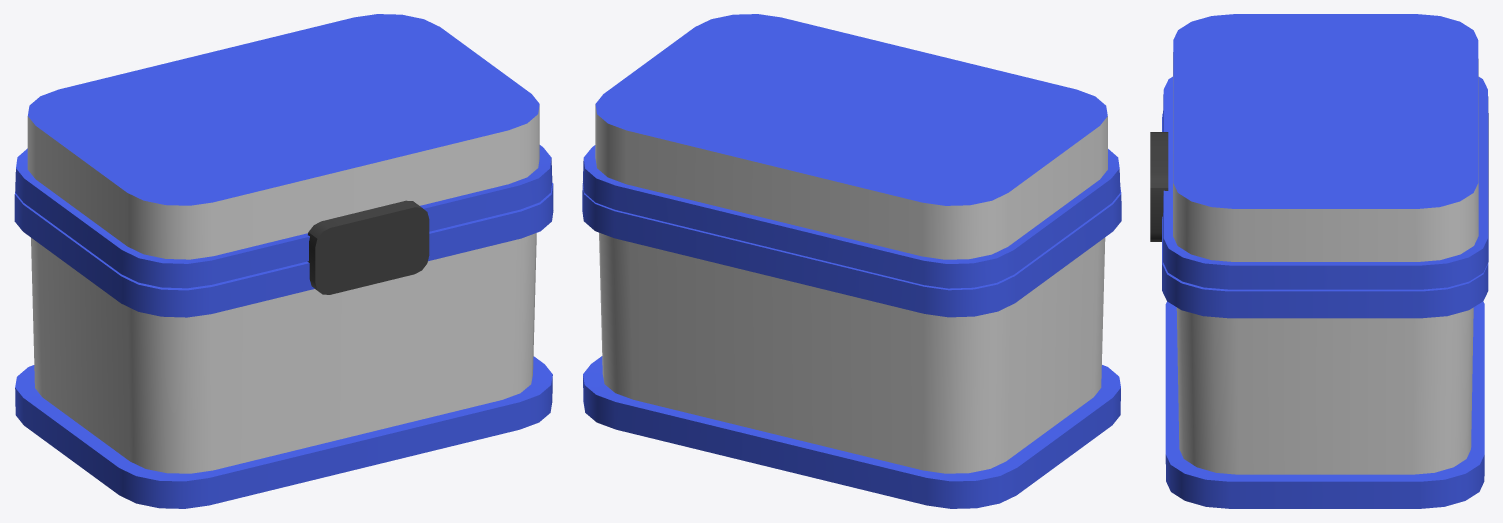
The model's file is Lootbox C.fbx.
The picture shows the model from 3 angles, left to right: view 1: azimuth 30°, elevation 25°; view 2: azimuth 150°, elevation 25°; view 3: azimuth 270°, elevation 25°; orthographic projection.
Parts seen in each view (by area): view 1: Lootbox Bottom C, Lootbox Up C; view 2: Lootbox Bottom C, Lootbox Up C; view 3: Lootbox Up C, Lootbox Bottom C.
Boxes of the visible parts, x1,y1,x2,y2 form: Lootbox Bottom C: (14,183,553,508); Lootbox Up C: (15,14,552,288); Lootbox Bottom C: (582,183,1121,508); Lootbox Up C: (583,14,1120,288); Lootbox Up C: (1163,14,1488,289); Lootbox Bottom C: (1150,113,1488,508).
Size of the model in its own units: 211 by 141 by 147.
